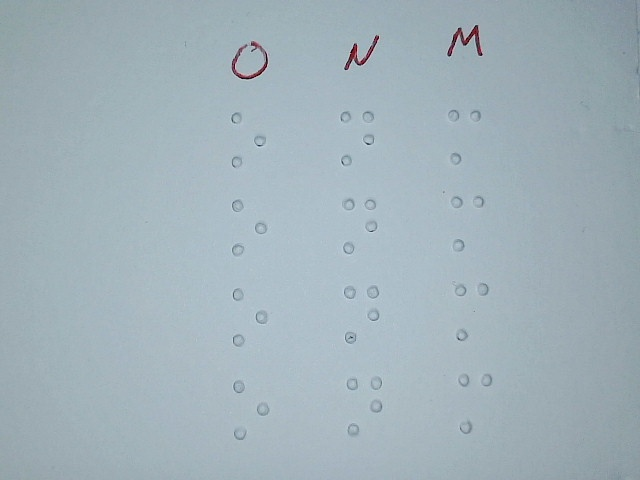M: (444, 105, 485, 167), (448, 191, 489, 253), (451, 280, 492, 342), (454, 371, 495, 433)
N: (337, 107, 378, 169), (339, 194, 380, 256), (342, 282, 383, 344), (343, 375, 384, 437)
O: (228, 109, 269, 171), (229, 197, 270, 259), (229, 286, 270, 348), (230, 378, 271, 440)
